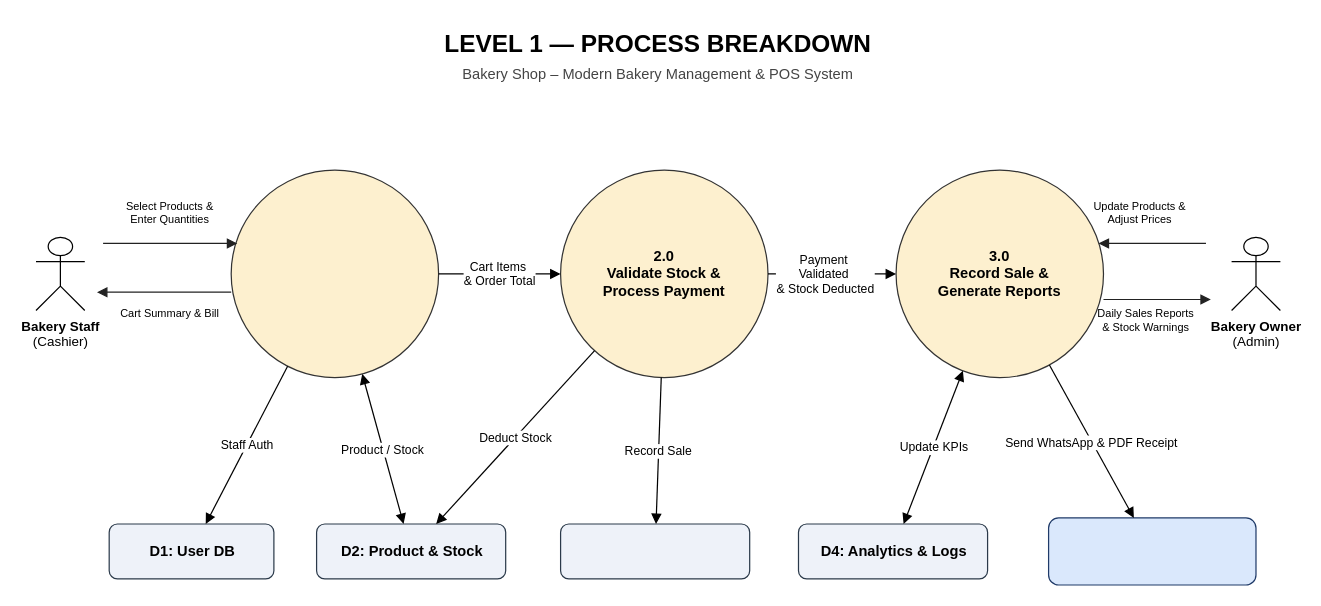
Image size: 1321x606. Some labels were removed from this diagram. The centre of each missing label's shape, as x and y in pixels:
"1.0 Manage Products & Cart" goes at [334,273].
"D3: Sales & Orders" goes at [654,551].
"Notification Service (WhatsApp / PDF)" goes at [1151,551].
